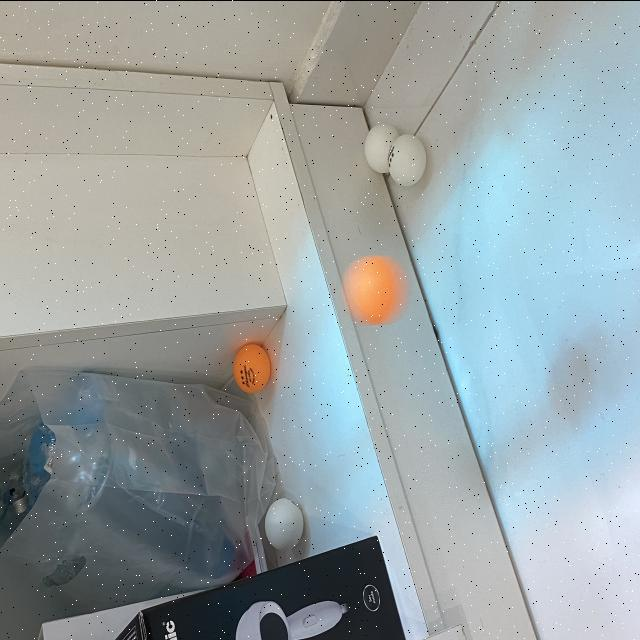ping-pong-ball: (344, 257, 406, 321), (266, 498, 304, 550), (232, 341, 272, 390), (364, 121, 402, 172), (388, 134, 426, 184)
